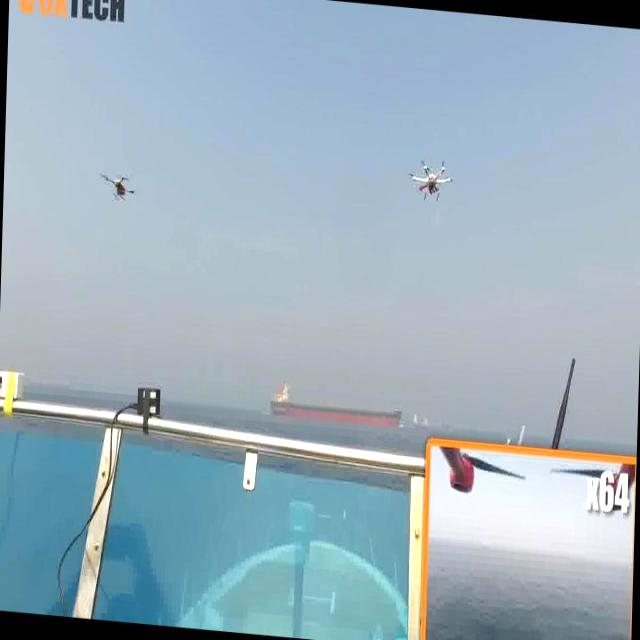drone: (407, 150, 454, 209), (100, 165, 136, 207)
